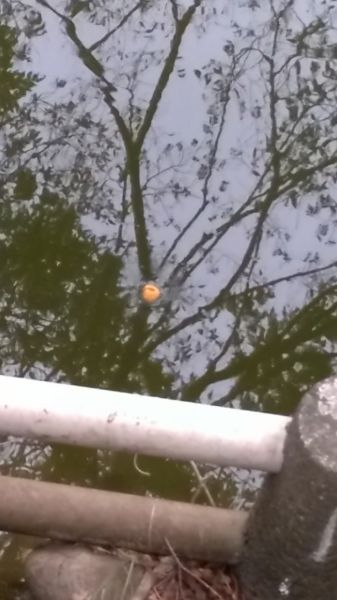eggs: (134, 277, 167, 305)
